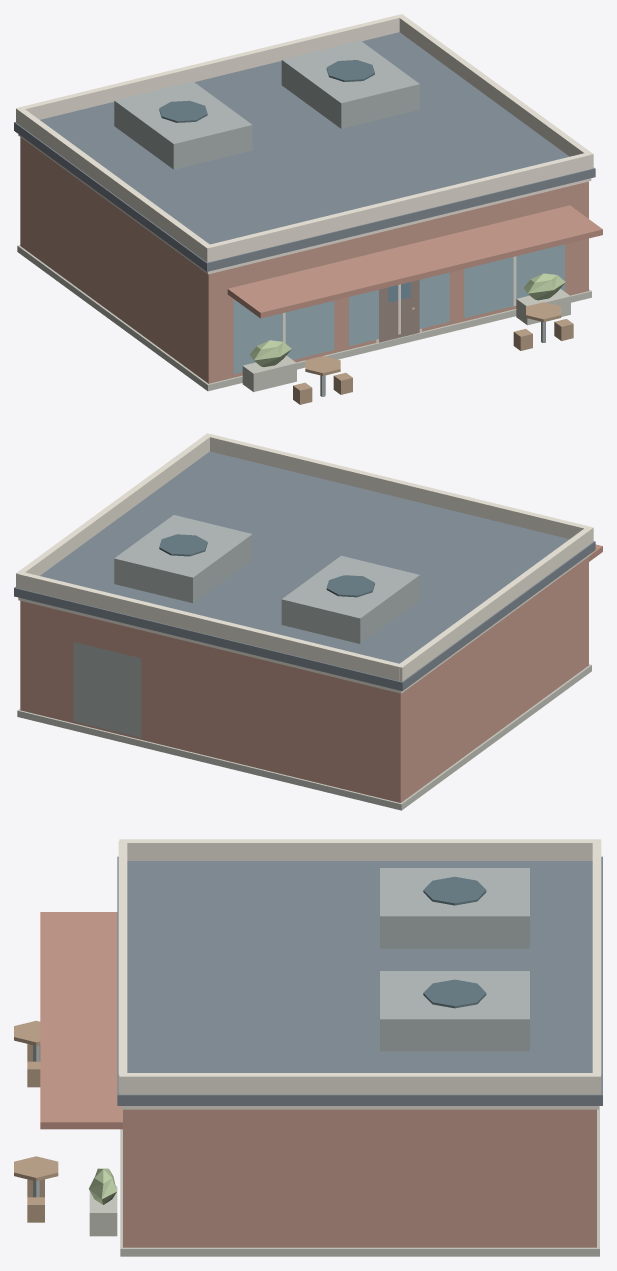
Rendered from shop-cafe-terrace.glb.
The picture shows the model from 3 angles, top to bottom: view 1: azimuth 30°, elevation 25°; view 2: azimuth 150°, elevation 25°; view 3: azimuth 270°, elevation 25°; orthographic projection. The views are drawn at different scales.
Visible parts, largest first — view 1: shop-cafe-terrace; view 2: shop-cafe-terrace; view 3: shop-cafe-terrace.
Part boxes in pixels (x1=…): shop-cafe-terrace: x1=14, y1=14, x2=602, y2=404; shop-cafe-terrace: x1=14, y1=433, x2=602, y2=810; shop-cafe-terrace: x1=14, y1=839, x2=602, y2=1256.
Bounding box in the file's own units: 14.3 × 5.51 × 14.91.
